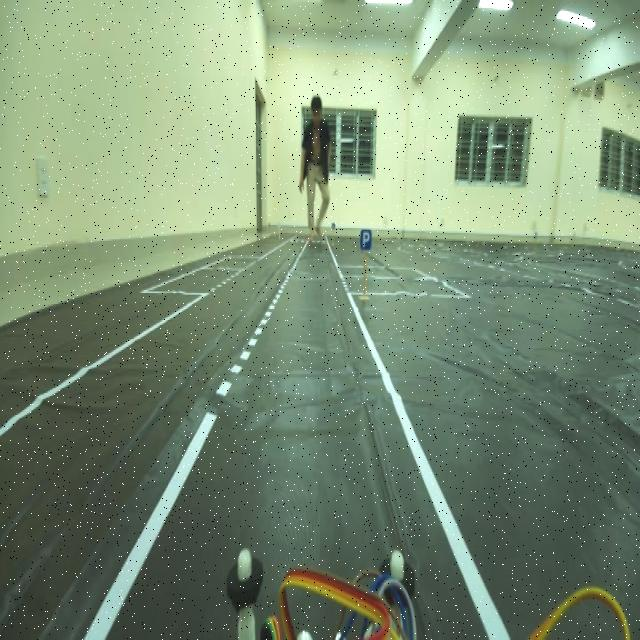parking: (357, 222, 374, 260)
